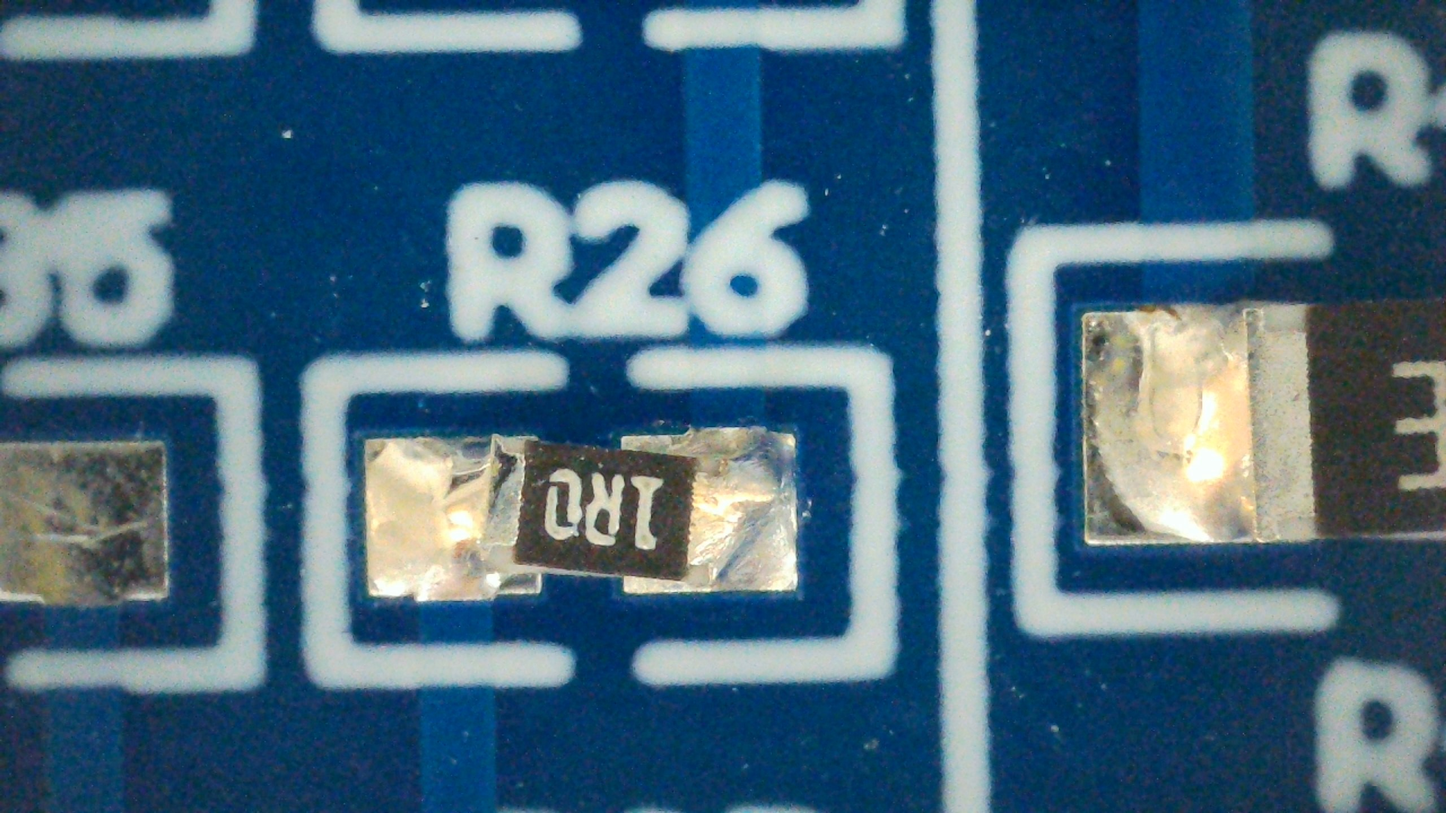NG: (364, 429, 797, 605)
